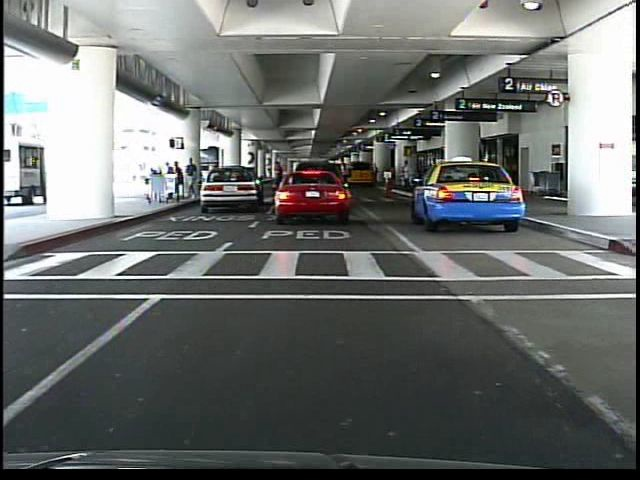person: (272, 158, 289, 204), (339, 158, 352, 201), (189, 157, 201, 200), (324, 167, 334, 202), (401, 160, 412, 190), (408, 159, 409, 192)
